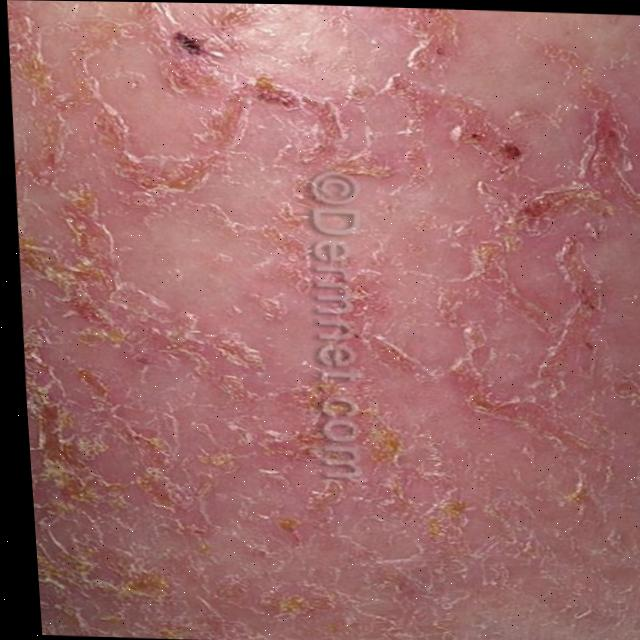Eczema: (3, 52, 640, 640)
